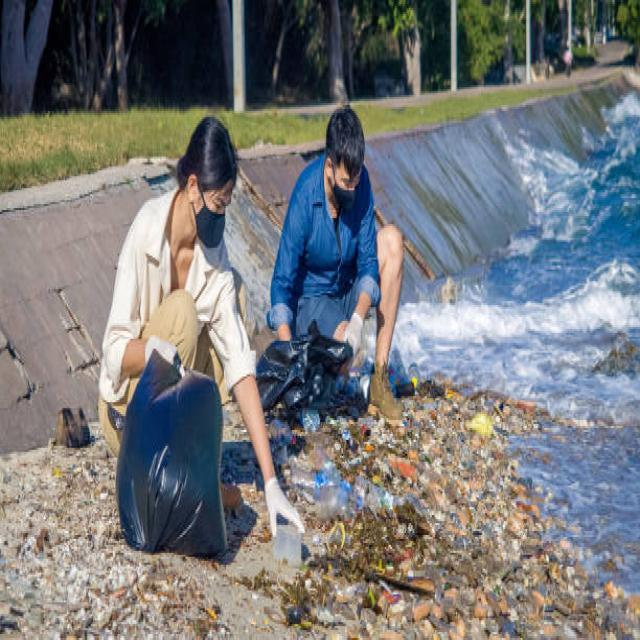garbage: (414, 371, 599, 635)
